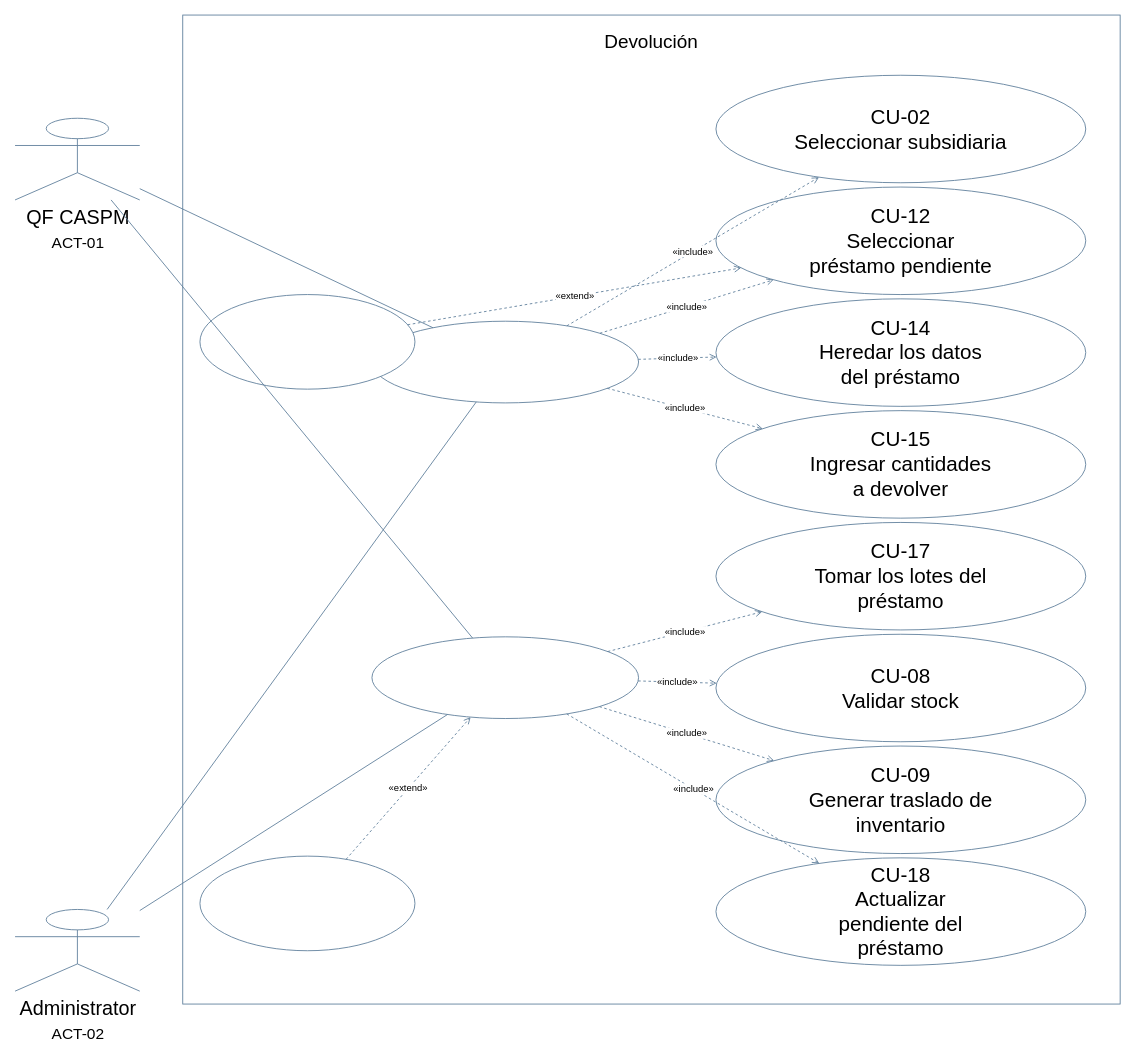
This 1135x1060 diagram has some shape labels left out. Each missing label, with the centre of its shape:
"CU-11 Registrar devolución" goes at [505,361].
"CU-13 Filtrar por entidad receptora" goes at [307,341].
"CU-16 Procesar devolución" goes at [505,677].
"CU-31 Generar ajuste de salida de la devolución" goes at [307,903].
